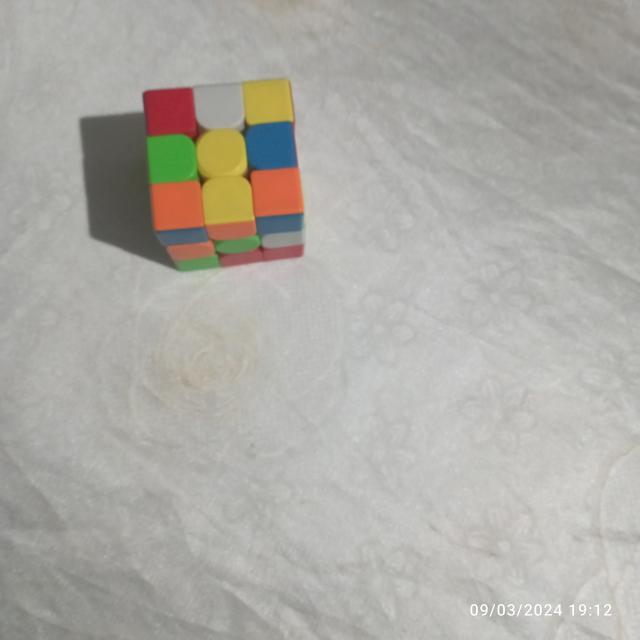Rub: (136, 76, 310, 276)
